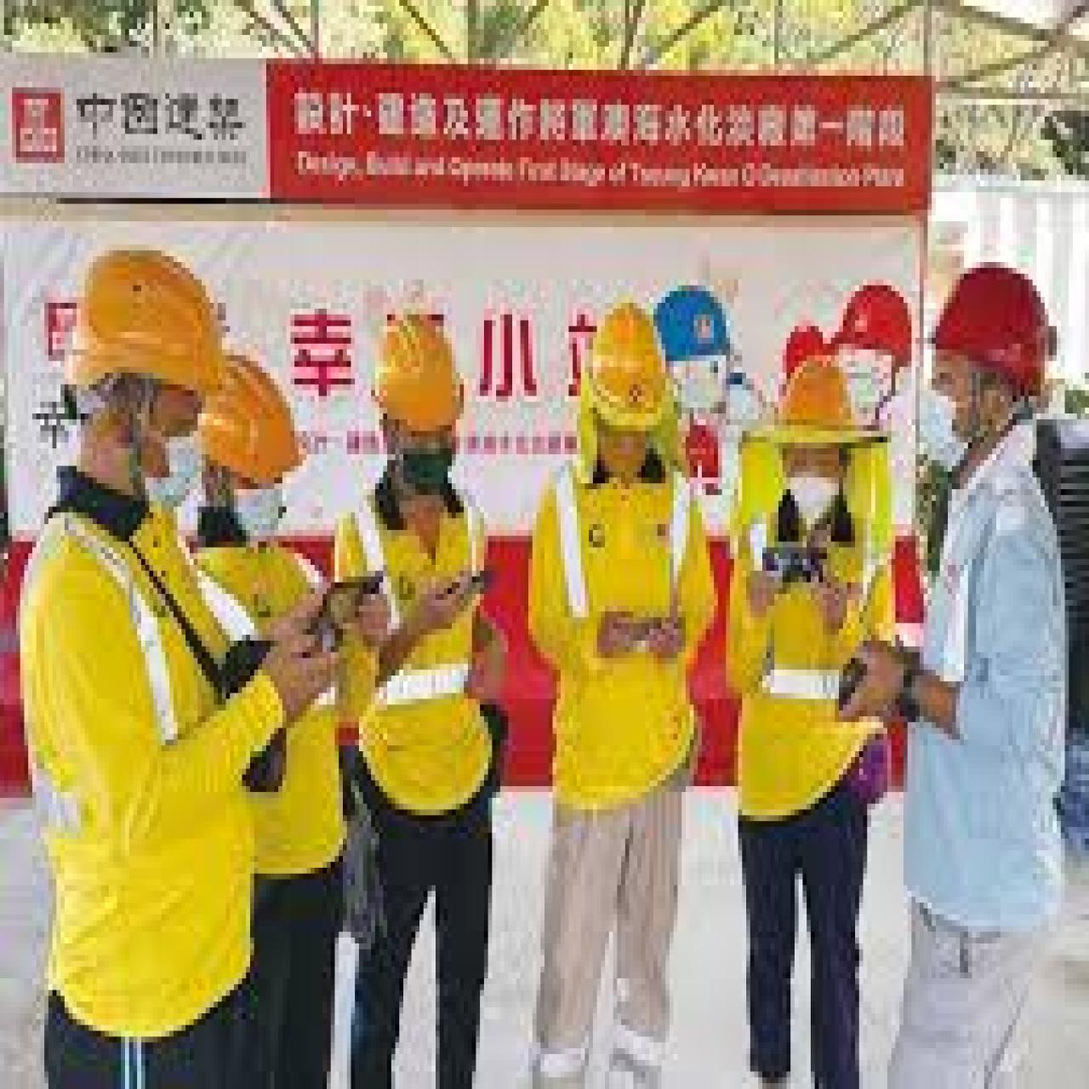NO_Safety_Vest: (14, 508, 279, 1046), (905, 478, 1073, 919), (533, 460, 707, 803), (344, 488, 504, 821), (733, 494, 896, 816), (200, 535, 347, 885)
Person: (7, 229, 329, 1089), (835, 244, 1089, 1089), (517, 285, 725, 1089), (712, 346, 908, 1089), (174, 326, 363, 1089), (337, 288, 515, 1089)
